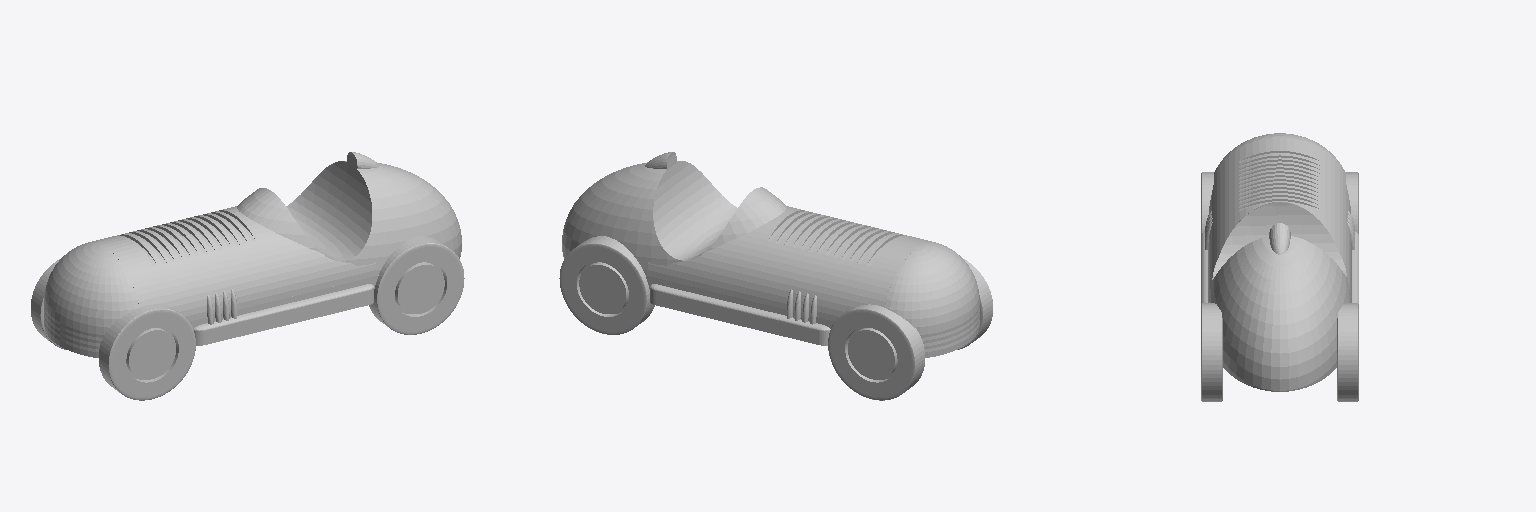
File: Car.obj
3 views of the same model, side by side, from view 1: azimuth 30°, elevation 25°; view 2: azimuth 150°, elevation 25°; view 3: azimuth 270°, elevation 25° (orthographic).
Parts seen in each view (by area): view 1: Monopoly_Replacement_Part_Car; view 2: Monopoly_Replacement_Part_Car; view 3: Monopoly_Replacement_Part_Car.
Boxes of the visible parts, <box> form: Monopoly_Replacement_Part_Car: <box>31,152,464,400</box>; Monopoly_Replacement_Part_Car: <box>559,152,992,400</box>; Monopoly_Replacement_Part_Car: <box>1201,133,1358,401</box>.
Bounding box in the file's own units: 29.4 × 11.19 × 9.98.